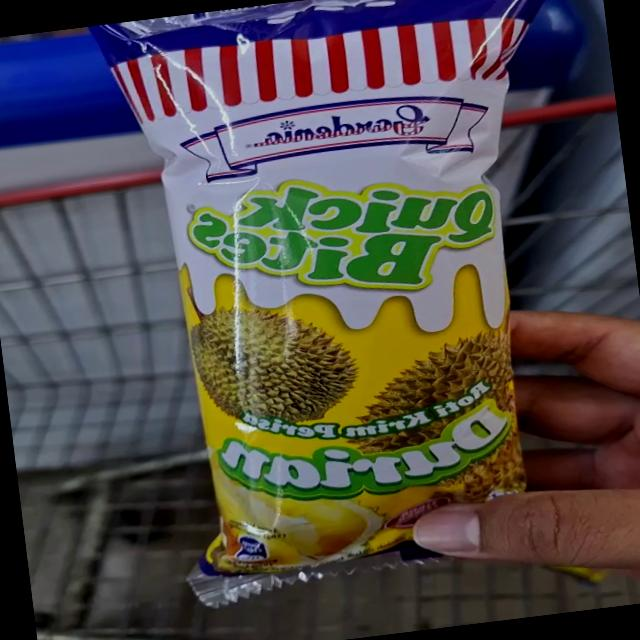Roti: (88, 0, 595, 363), (143, 244, 578, 626)
